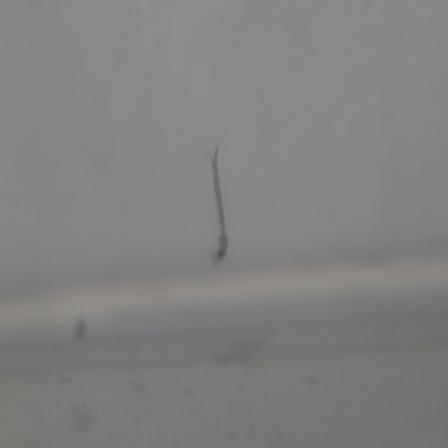Jentik-Nyamuk: (204, 141, 230, 261)
